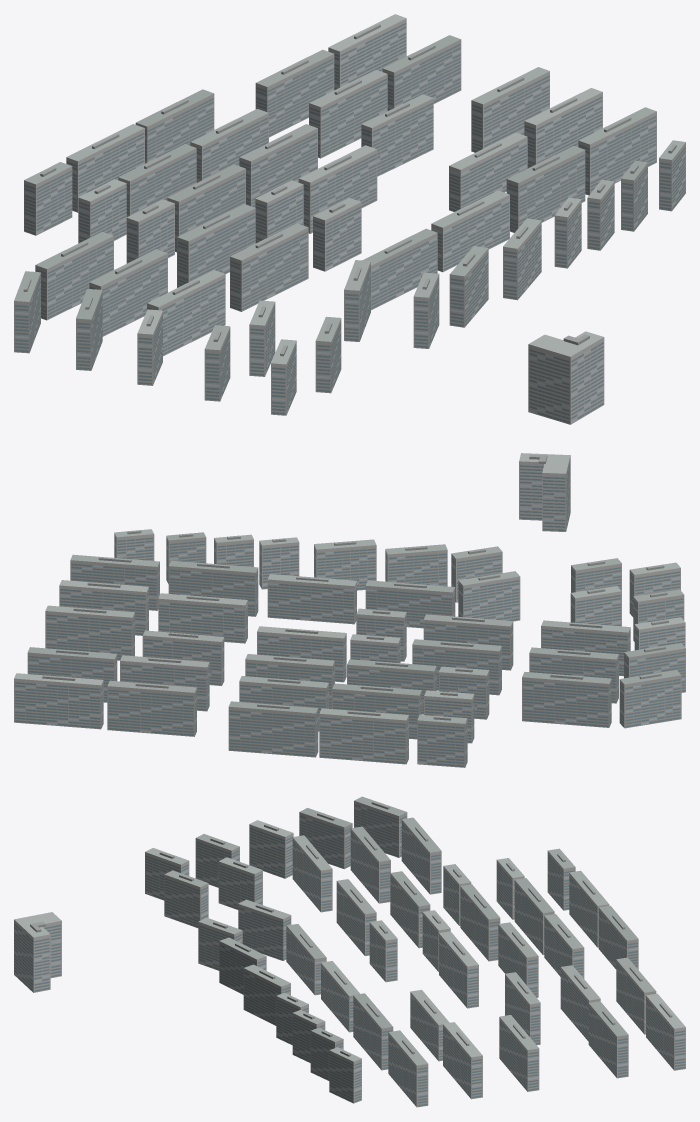
Rendered from apt-a13820201.glb.
3 views of the same model, one above another, from view 1: azimuth 30°, elevation 25°; view 2: azimuth 150°, elevation 25°; view 3: azimuth 270°, elevation 25° (orthographic). The views are drawn at different scales.
Parts seen in each view (by area): view 1: apt-a13820201; view 2: apt-a13820201; view 3: apt-a13820201.
Boxes of the visible parts, <box> form: apt-a13820201: <box>14,14,685,424</box>; apt-a13820201: <box>14,453,685,767</box>; apt-a13820201: <box>14,796,685,1107</box>.
Size of the model in its own units: 631 by 63 by 666.
